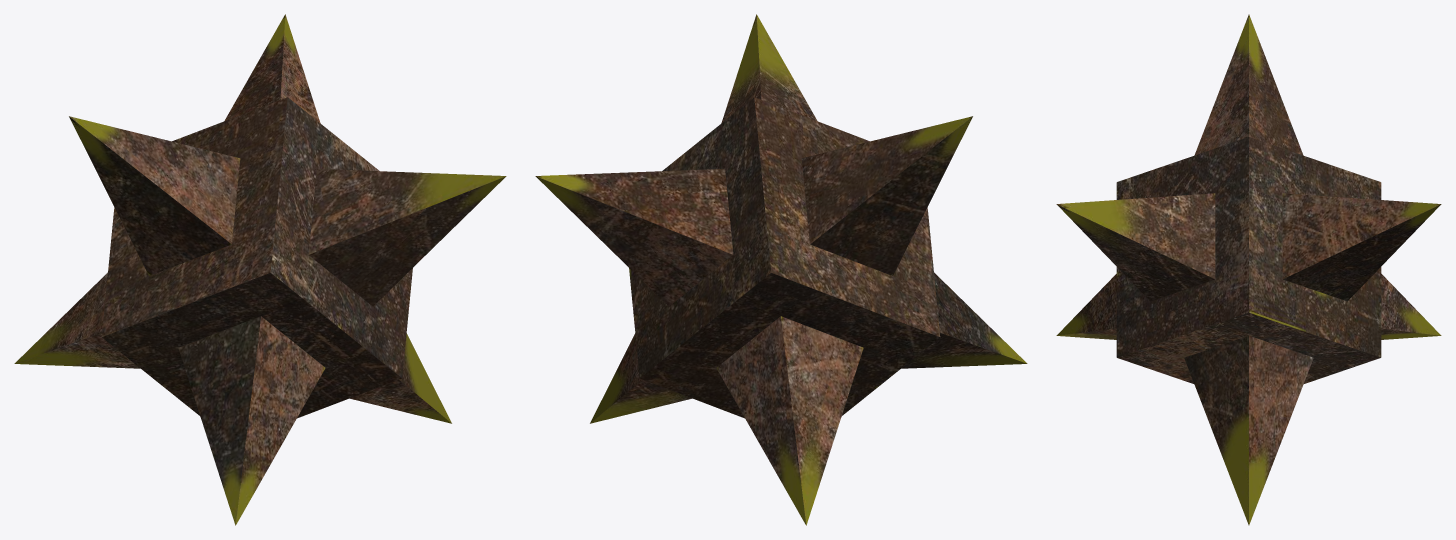
The picture shows the model from 3 angles, left to right: view 1: azimuth 30°, elevation 25°; view 2: azimuth 150°, elevation 25°; view 3: azimuth 270°, elevation 25°; orthographic projection. The views are drawn at different scales.
Parts seen in each view (by area): view 1: Cube; view 2: Cube; view 3: Cube.
Part boxes in pixels (bbox=[...]): Cube: bbox=[14, 14, 506, 525]; Cube: bbox=[535, 14, 1027, 525]; Cube: bbox=[1056, 14, 1441, 525].
Size of the model in its own units: 412 by 412 by 412.
